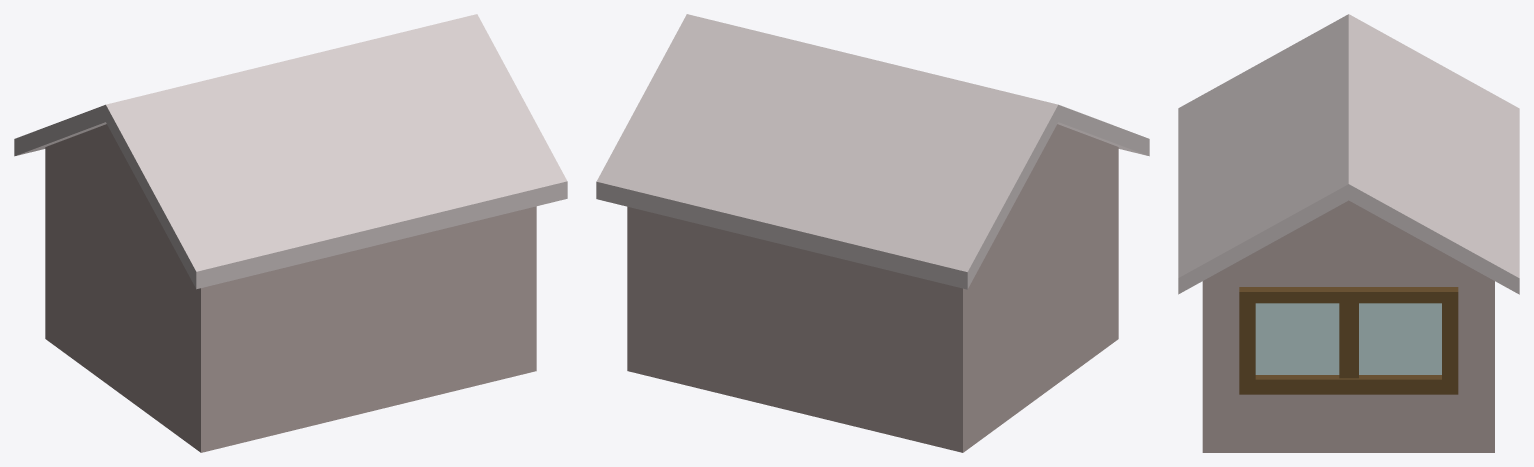
File: roof_window_2_4.fbx
3 renders of one model, left to right at view 1: azimuth 30°, elevation 25°; view 2: azimuth 150°, elevation 25°; view 3: azimuth 270°, elevation 25°, orthographic. The views are drawn at different scales.
Parts seen in each view (by area): view 1: roof_window_2_4; view 2: roof_window_2_4; view 3: roof_window_2_4.
Boxes of the visible parts, x1=… form: roof_window_2_4: x1=14, y1=14, x2=567, y2=452; roof_window_2_4: x1=596, y1=14, x2=1149, y2=452; roof_window_2_4: x1=1178, y1=14, x2=1519, y2=452.
Size of the model in its own units: 361 by 274 by 306.
